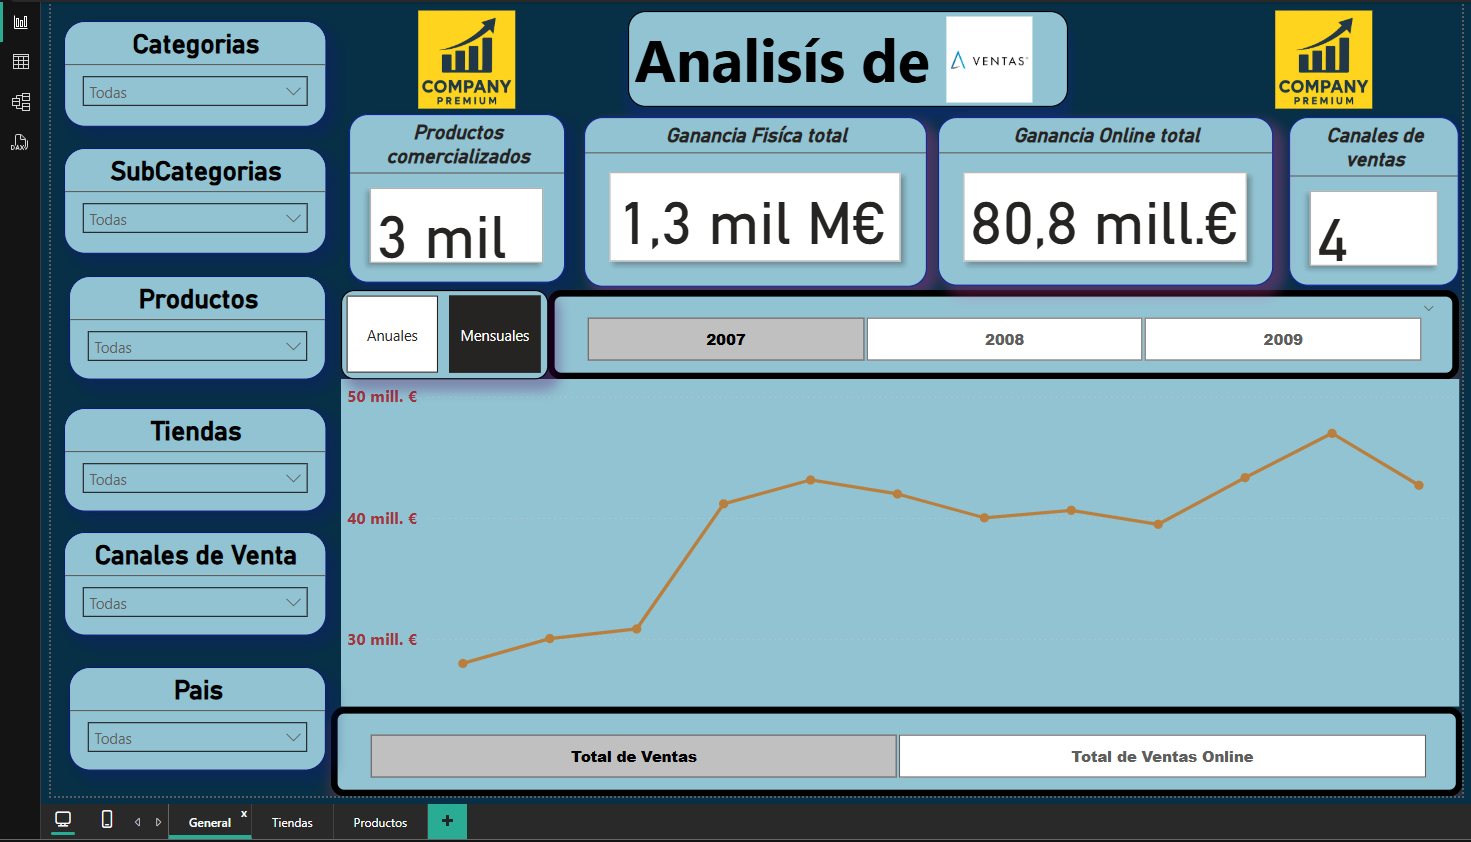

What the dashboard file says about the page in this screenshot:
{"tool":"powerbi","page":{"name":"General","canvas":[1280,720],"ordinal":0},"visuals":[{"type":"textbox","box":[523.8,8.6,483,87.1],"z":0},{"type":"cardVisual","title":"Ganancia Fisíca total","fields":{"Data":["medidas.Total Ventas"]},"box":[482.8,104,310.9,153.1],"z":1000},{"type":"cardVisual","title":"Productos comercializados","fields":{"Data":["medidas.Cantidad Canales Utilizados"]},"box":[266.5,104,196.4,153.1],"z":3000},{"type":"cardVisual","title":"Canales de ventas","fields":{"Data":["medidas.Canales de Ventas"]},"box":[1098.8,104,153.1,153.1],"z":4000},{"type":"slicer","title":"Canales de Venta","fields":{"Values":["dim_canal_venta.nombre_canal_venta"]},"box":[11.6,481,237.6,94.3],"z":5000},{"type":"slicer","title":"Categorias","fields":{"Values":["dim_prod_sub.nombre_categoria"]},"box":[11.6,17.5,246.9,95.5],"z":6000},{"type":"slicer","title":"SubCategorias","fields":{"Values":["dim_prod_sub.nombre_subcategoria"]},"box":[11.6,132.8,246.9,95.5],"z":7000},{"type":"slicer","title":"Tiendas","fields":{"Values":["dim_tienda.nombre_tienda"]},"box":[11.6,368,237.6,94.3],"z":8000},{"type":"slicer","fields":{"Values":["Analisis Ventas Filtrado.Analisis Ventas Filtrado"]},"box":[448.5,638.9,831.5,80.7],"z":9000},{"type":"slicer","title":"Productos","fields":{"Values":["dim_producto.nombre_producto"]},"box":[16.3,248.1,237.6,94.3],"z":10000},{"type":"slicer","fields":{"Values":["AniosConVentas.Anio"]},"box":[450.7,261.4,826.1,80.7],"z":11000},{"type":"lineChart","title":"Ganancias Mensuales","fields":{"Y":["medidas.Total Ventas Filtrado"],"Category":["dim_calendario.fecha.Variación.Jerarquía de fechas.Mes"]},"box":[453.6,342.4,823.5,296.2],"z":13000},{"type":"bookmarkNavigator","box":[264.1,342.1,187,131.6],"z":14000},{"type":"cardVisual","title":"Ganancia Online total","fields":{"Data":["medidas.Total Ventas Online"]},"box":[804.2,104,284.1,153.1],"z":15000},{"type":"slicer","title":"Pais","fields":{"Values":["dim_geografia.pais"]},"box":[16.3,603.3,237.6,94.3],"z":16000}]}

Visuals, with their boxes in screenshot pixels (x1, y1, x2, y2):
textbox: (626,13,1154,108)
"Ganancia Fisíca total" cardVisual: (581,118,921,285)
"Productos comercializados" cardVisual: (345,118,560,285)
"Canales de ventas" cardVisual: (1255,118,1422,285)
"Canales de Venta" slicer: (66,530,326,633)
"Categorias" slicer: (66,23,336,127)
"SubCategorias" slicer: (66,149,336,253)
"Tiendas" slicer: (66,406,326,509)
slicer - Analisis Ventas Filtrado.Analisis Ventas Filtrado: (544,702,1453,790)
"Productos" slicer: (71,275,331,378)
slicer - AniosConVentas.Anio: (546,290,1449,378)
"Ganancias Mensuales" lineChart: (549,378,1450,702)
bookmarkNavigator: (342,378,547,522)
"Ganancia Online total" cardVisual: (933,118,1243,285)
"Pais" slicer: (71,663,331,766)
